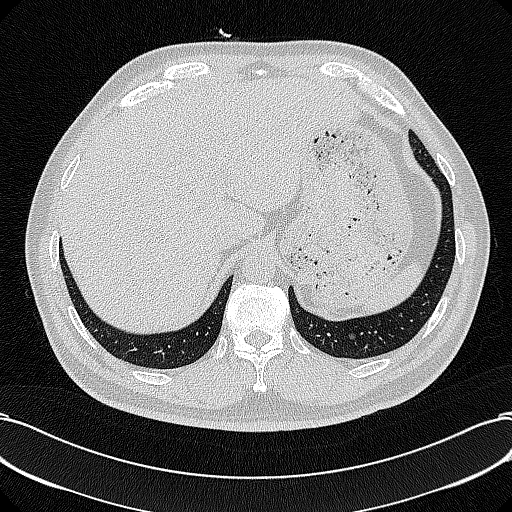nodule: (348, 333, 355, 339)
